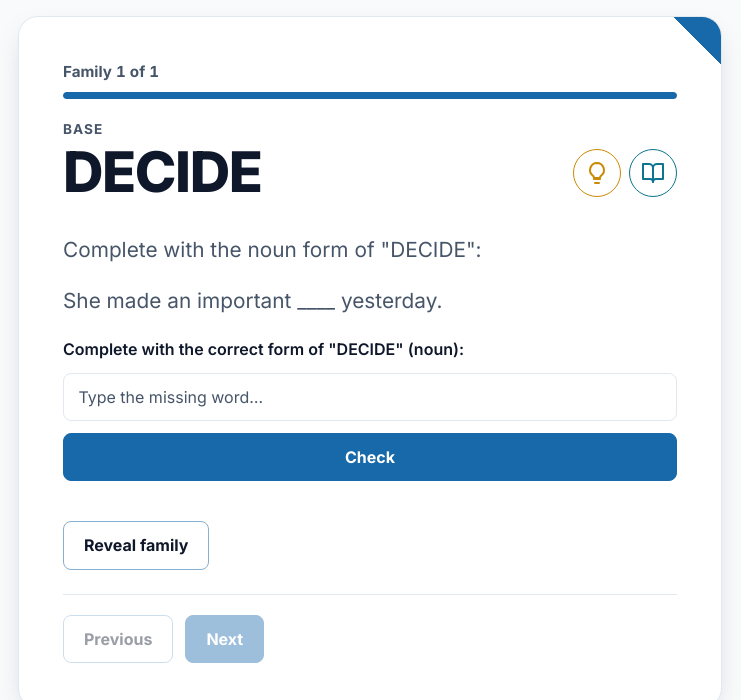
Test: WordFormationClient › reports when the answer is correct
In the field labelled "Complete with the correct form of \"DECIDE\" (noun):": (370, 397) [63,372,677,421], type "decision"
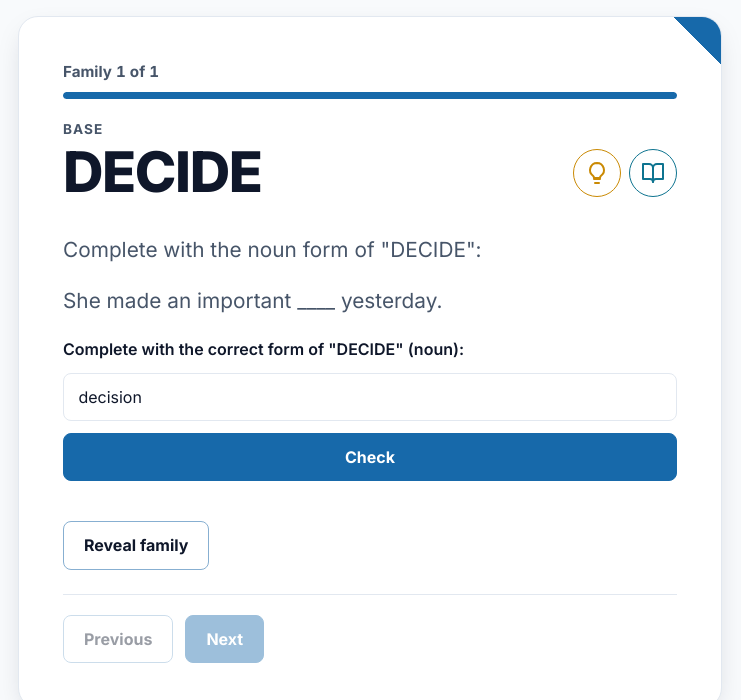
Click the button "Check": (370, 457) [63,433,677,481]
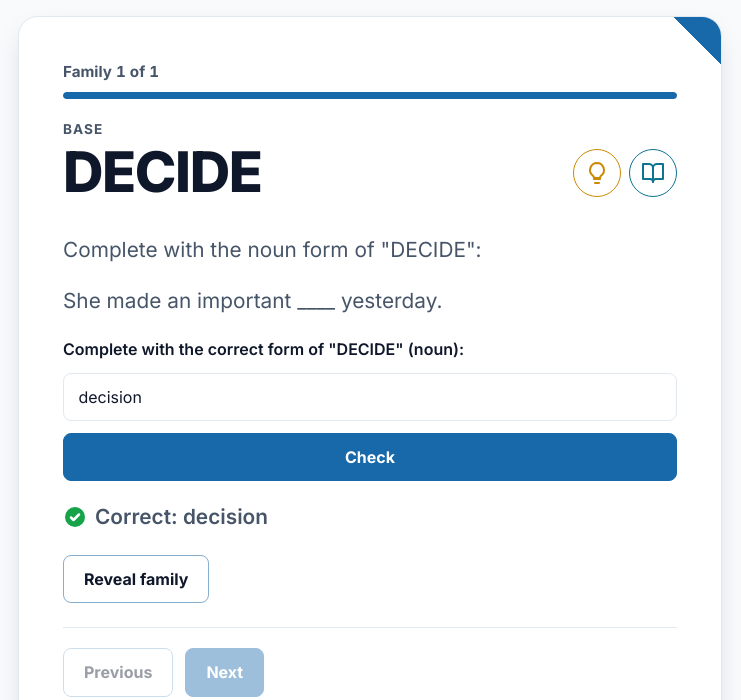
Expected: the text "Correct: decision" is shown, [95,501,268,532]
